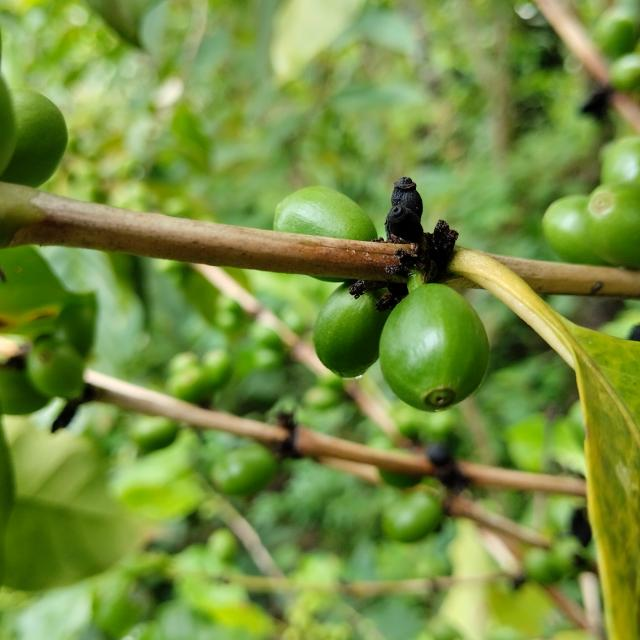green: (380, 283, 490, 412), (313, 282, 390, 378), (313, 282, 390, 378), (274, 186, 378, 241), (274, 186, 378, 241)
